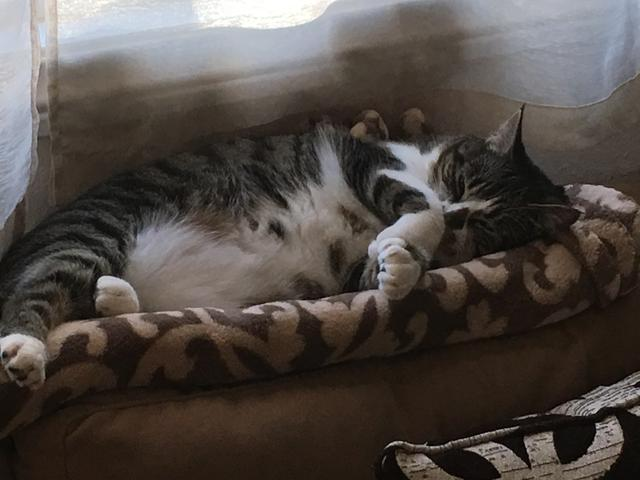playdoh: (1, 103, 583, 388)
